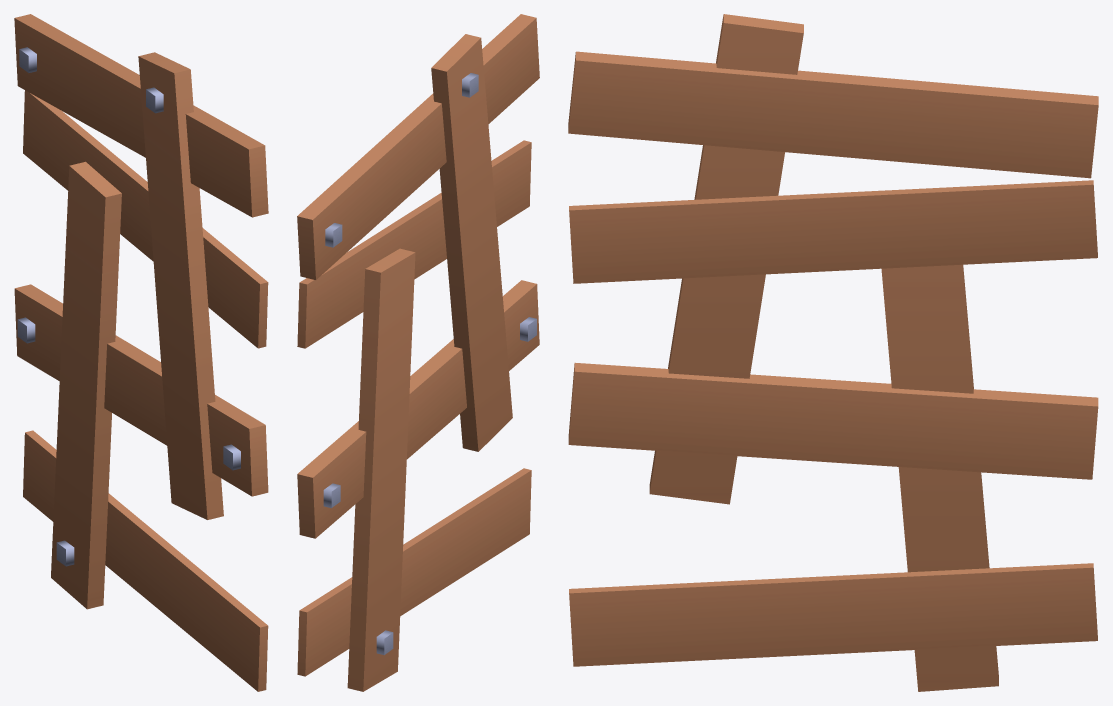
The model's file is barricade.glb.
3 renders of one model, left to right at view 1: azimuth 30°, elevation 25°; view 2: azimuth 150°, elevation 25°; view 3: azimuth 270°, elevation 25°, orthographic. The views are drawn at different scales.
Parts seen in each view (by area): view 1: barricade-doorway-c; view 2: barricade-doorway-c; view 3: barricade-doorway-c.
Boxes of the visible parts, x1=… form: barricade-doorway-c: x1=14, y1=14, x2=268, y2=691; barricade-doorway-c: x1=297, y1=14, x2=539, y2=691; barricade-doorway-c: x1=568, y1=14, x2=1098, y2=691.
Size of the model in its own units: 0.1 by 1.75 by 1.26.
Materials: 1 (1 with a texture image).
